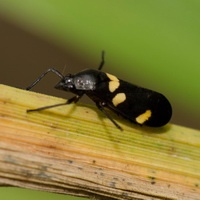insect: (27, 51, 171, 129)
